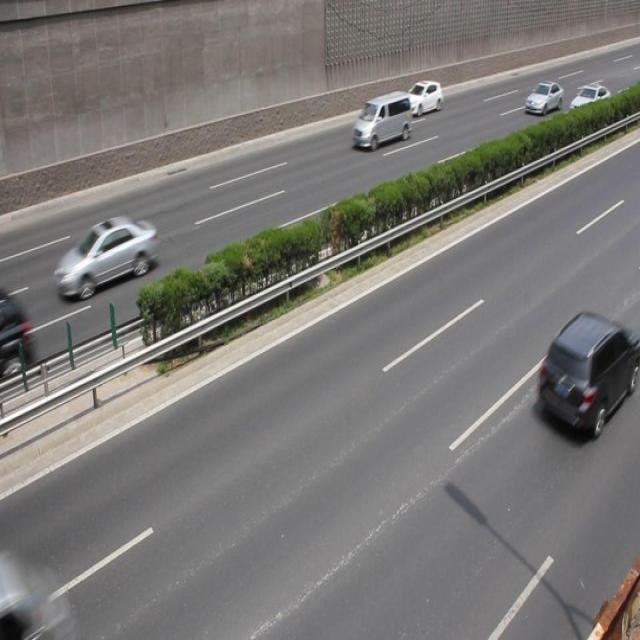car: (536, 308, 628, 440), (54, 215, 158, 298), (568, 82, 611, 120), (402, 80, 442, 118), (523, 82, 561, 117)
truck: (351, 90, 411, 154)
